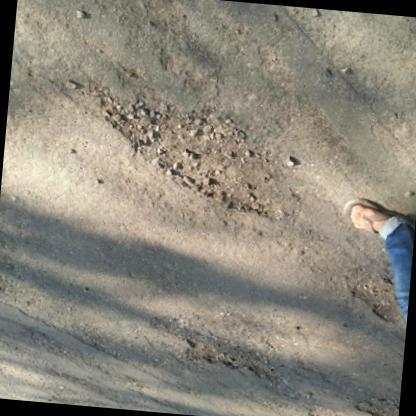pothole: (96, 92, 298, 225), (170, 310, 290, 382), (346, 270, 411, 322), (359, 393, 403, 416)
